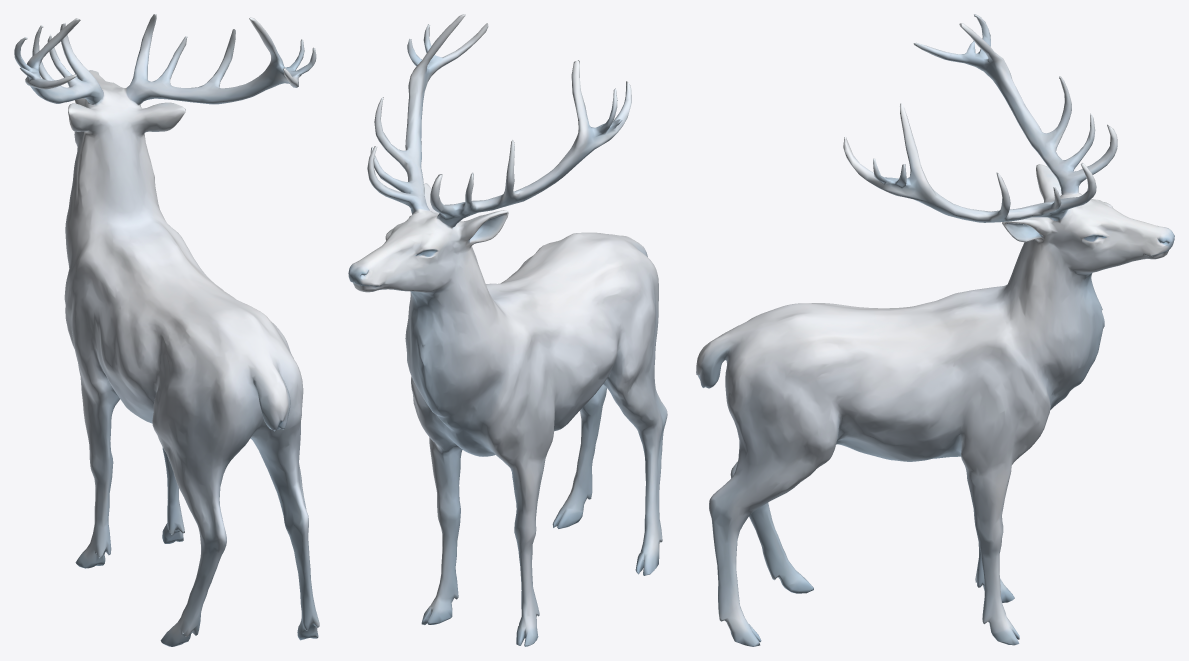
The model's file is deer.glb.
3 renders of one model, left to right at view 1: azimuth 30°, elevation 25°; view 2: azimuth 150°, elevation 25°; view 3: azimuth 270°, elevation 25°, orthographic. The views are drawn at different scales.
Parts seen in each view (by area): view 1: tripo_node_10d917e3-a111-4eaa-b575-eaa3907a99b1; view 2: tripo_node_10d917e3-a111-4eaa-b575-eaa3907a99b1; view 3: tripo_node_10d917e3-a111-4eaa-b575-eaa3907a99b1.
Part boxes in pixels (x1,y1,x2,y2): tripo_node_10d917e3-a111-4eaa-b575-eaa3907a99b1: (14,14,319,646); tripo_node_10d917e3-a111-4eaa-b575-eaa3907a99b1: (348,14,667,646); tripo_node_10d917e3-a111-4eaa-b575-eaa3907a99b1: (696,14,1174,646).
Size of the model in its own units: 0.448 by 0.981 by 0.7576.
1 material, 1 textured.
